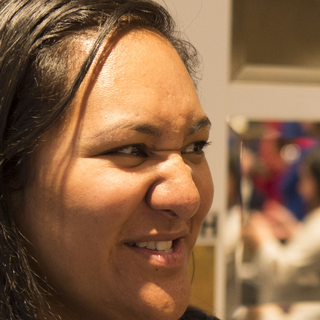eye: (106, 139, 157, 162), (180, 134, 213, 160)
